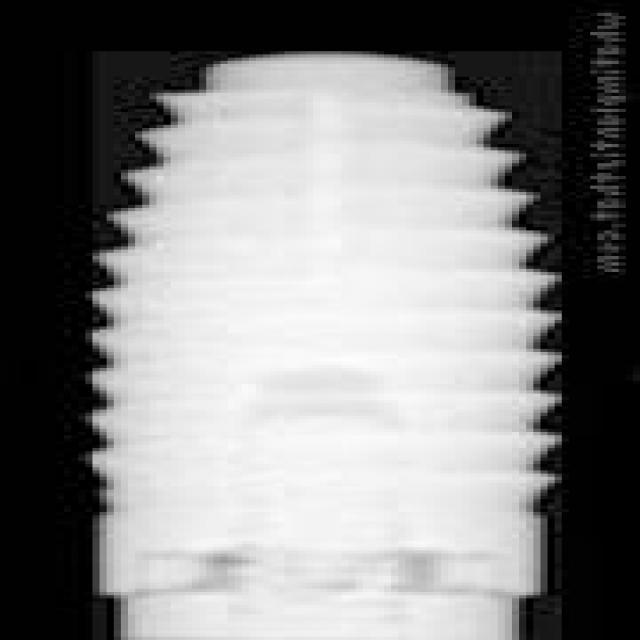Osstem Implant: (92, 51, 562, 640)
